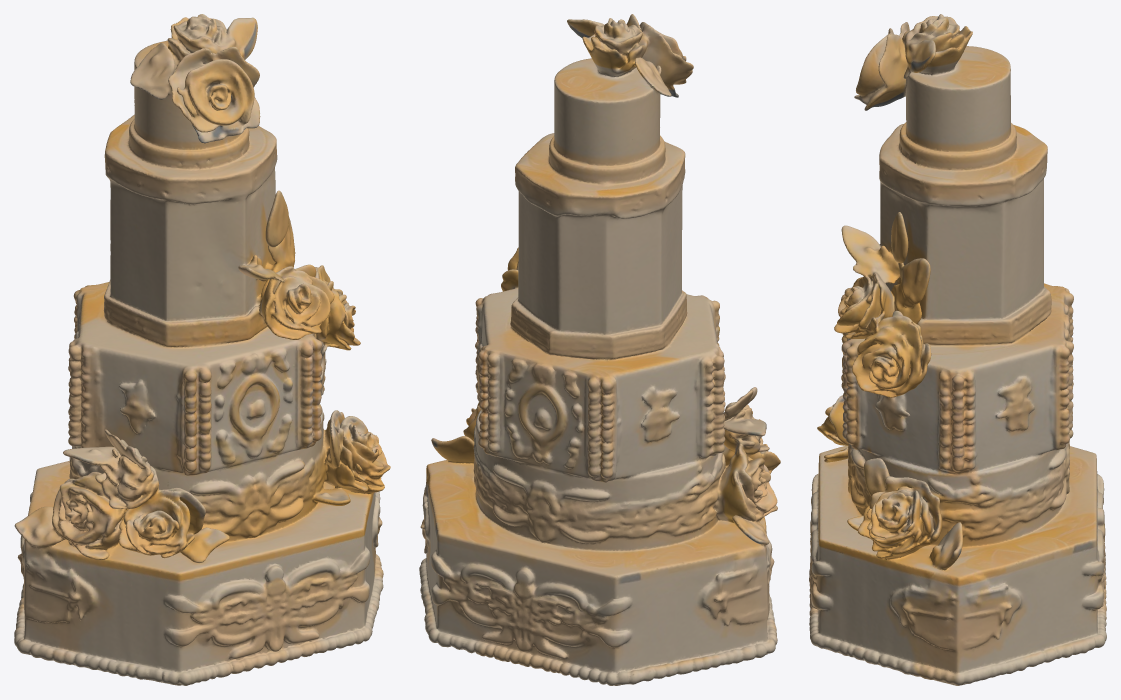
The model's file is hero-cake.glb.
The picture shows the model from 3 angles, left to right: view 1: azimuth 30°, elevation 25°; view 2: azimuth 150°, elevation 25°; view 3: azimuth 270°, elevation 25°; orthographic projection. The views are drawn at different scales.
Parts seen in each view (by area): view 1: tripo_node_8cc7d24d-822d-4d64-814a-41547fe0028b; view 2: tripo_node_8cc7d24d-822d-4d64-814a-41547fe0028b; view 3: tripo_node_8cc7d24d-822d-4d64-814a-41547fe0028b.
Part boxes in pixels (left/top/right/bottom): tripo_node_8cc7d24d-822d-4d64-814a-41547fe0028b: left=14, top=14, right=390, bottom=685; tripo_node_8cc7d24d-822d-4d64-814a-41547fe0028b: left=419, top=14, right=780, bottom=685; tripo_node_8cc7d24d-822d-4d64-814a-41547fe0028b: left=809, top=14, right=1106, bottom=685.
Size of the model in its own units: 0.6253 by 1 by 0.4624.
Materials: 1 (1 with a texture image).
